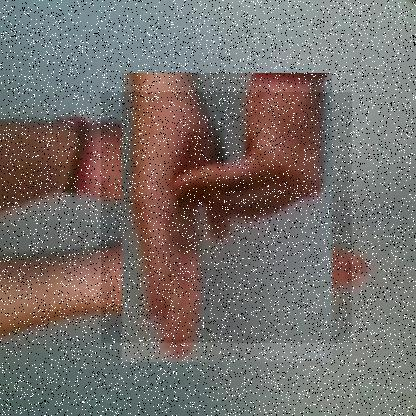Z: (101, 92, 353, 344)
